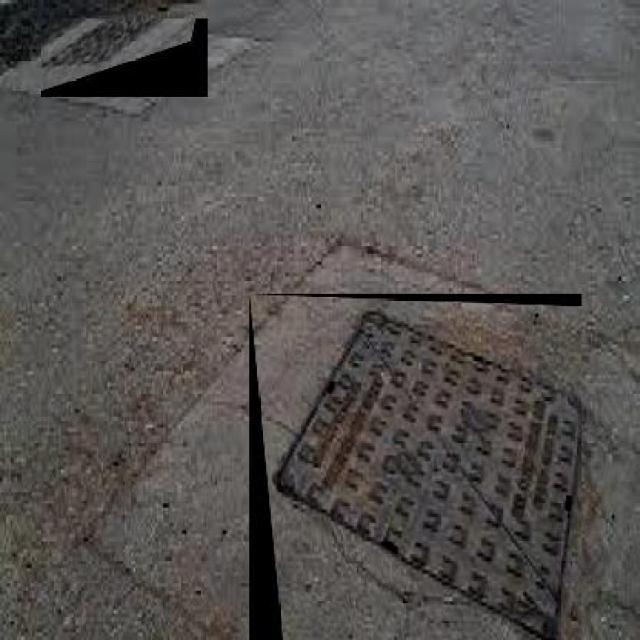Manhole: (249, 294, 582, 640), (40, 18, 208, 97)
